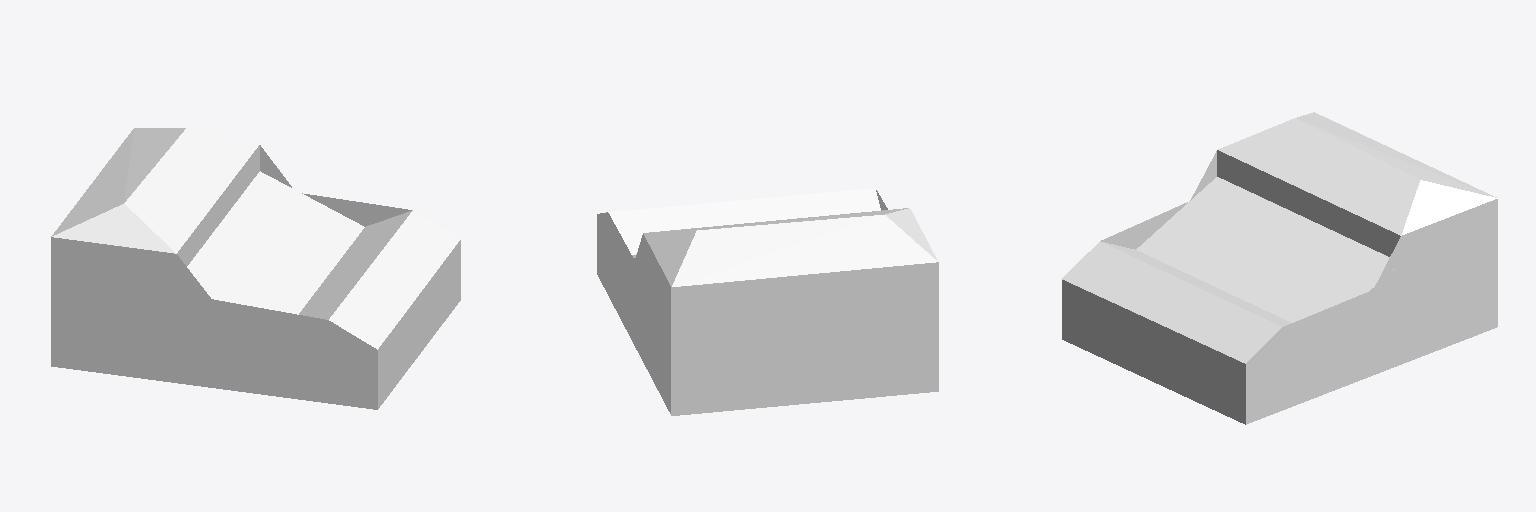
Rendered from house_Shape 273.obj.
The picture shows the model from 3 angles: view 1: azimuth 30°, elevation 25°; view 2: azimuth 150°, elevation 25°; view 3: azimuth 270°, elevation 25°; orthographic projection.
Parts seen in each view (by area): view 1: CityEngineMaterial_8, CityEngineMaterial_175, CityEngineMaterial_176; view 2: CityEngineMaterial_175, CityEngineMaterial_8, CityEngineMaterial_176; view 3: CityEngineMaterial_8, CityEngineMaterial_175, CityEngineMaterial_176.
Boxes of the visible parts, x1=… form: CityEngineMaterial_8: x1=51, y1=128, x2=460, y2=349; CityEngineMaterial_175: x1=51, y1=145, x2=460, y2=409; CityEngineMaterial_176: x1=51, y1=145, x2=291, y2=298; CityEngineMaterial_175: x1=597, y1=190, x2=938, y2=415; CityEngineMaterial_8: x1=608, y1=188, x2=937, y2=286; CityEngineMaterial_176: x1=635, y1=234, x2=938, y2=326; CityEngineMaterial_8: x1=1062, y1=112, x2=1497, y2=363; CityEngineMaterial_175: x1=1062, y1=150, x2=1497, y2=424; CityEngineMaterial_176: x1=1190, y1=151, x2=1497, y2=285.
Bounding box in the file's own units: 19.92 × 7.84 × 20.05.